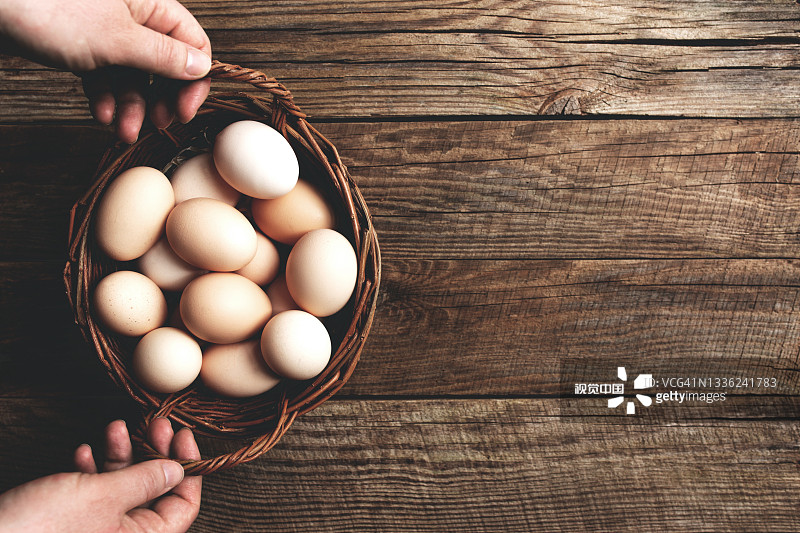no-phone: (1, 1, 236, 149), (1, 400, 257, 533)
